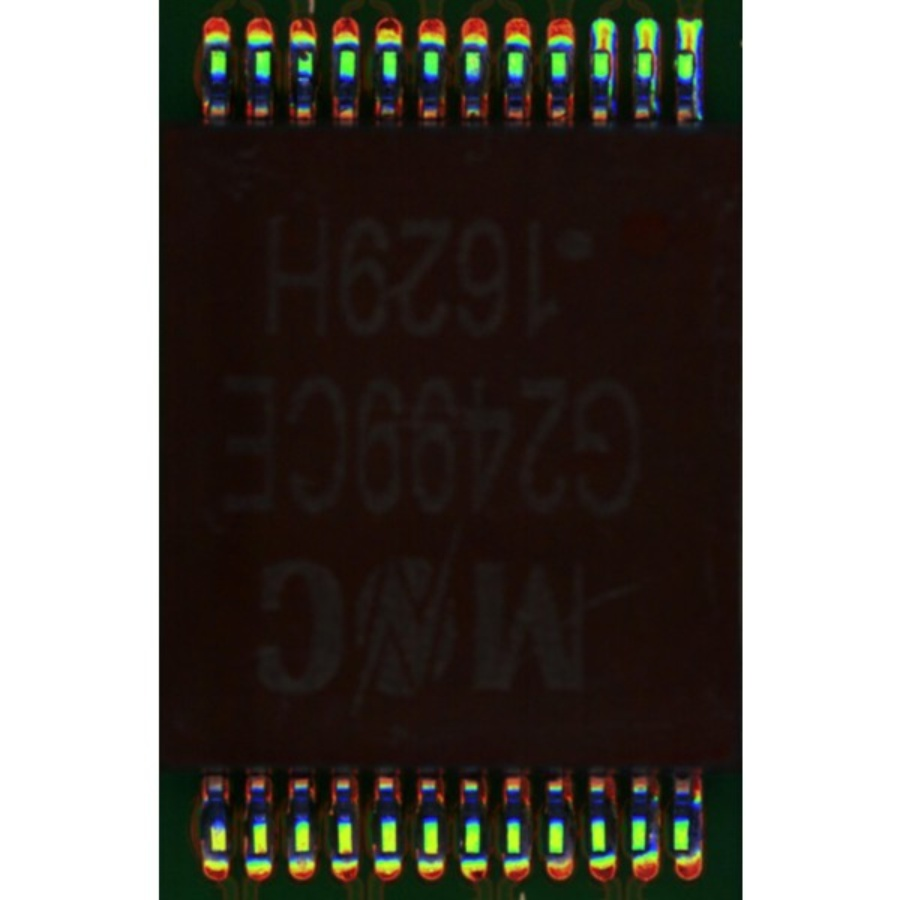Bad_podu: (597, 36, 610, 60), (683, 37, 696, 60), (641, 37, 654, 59)
Bad_qiaojiao: (651, 51, 660, 113), (693, 55, 700, 117), (608, 54, 614, 104)
